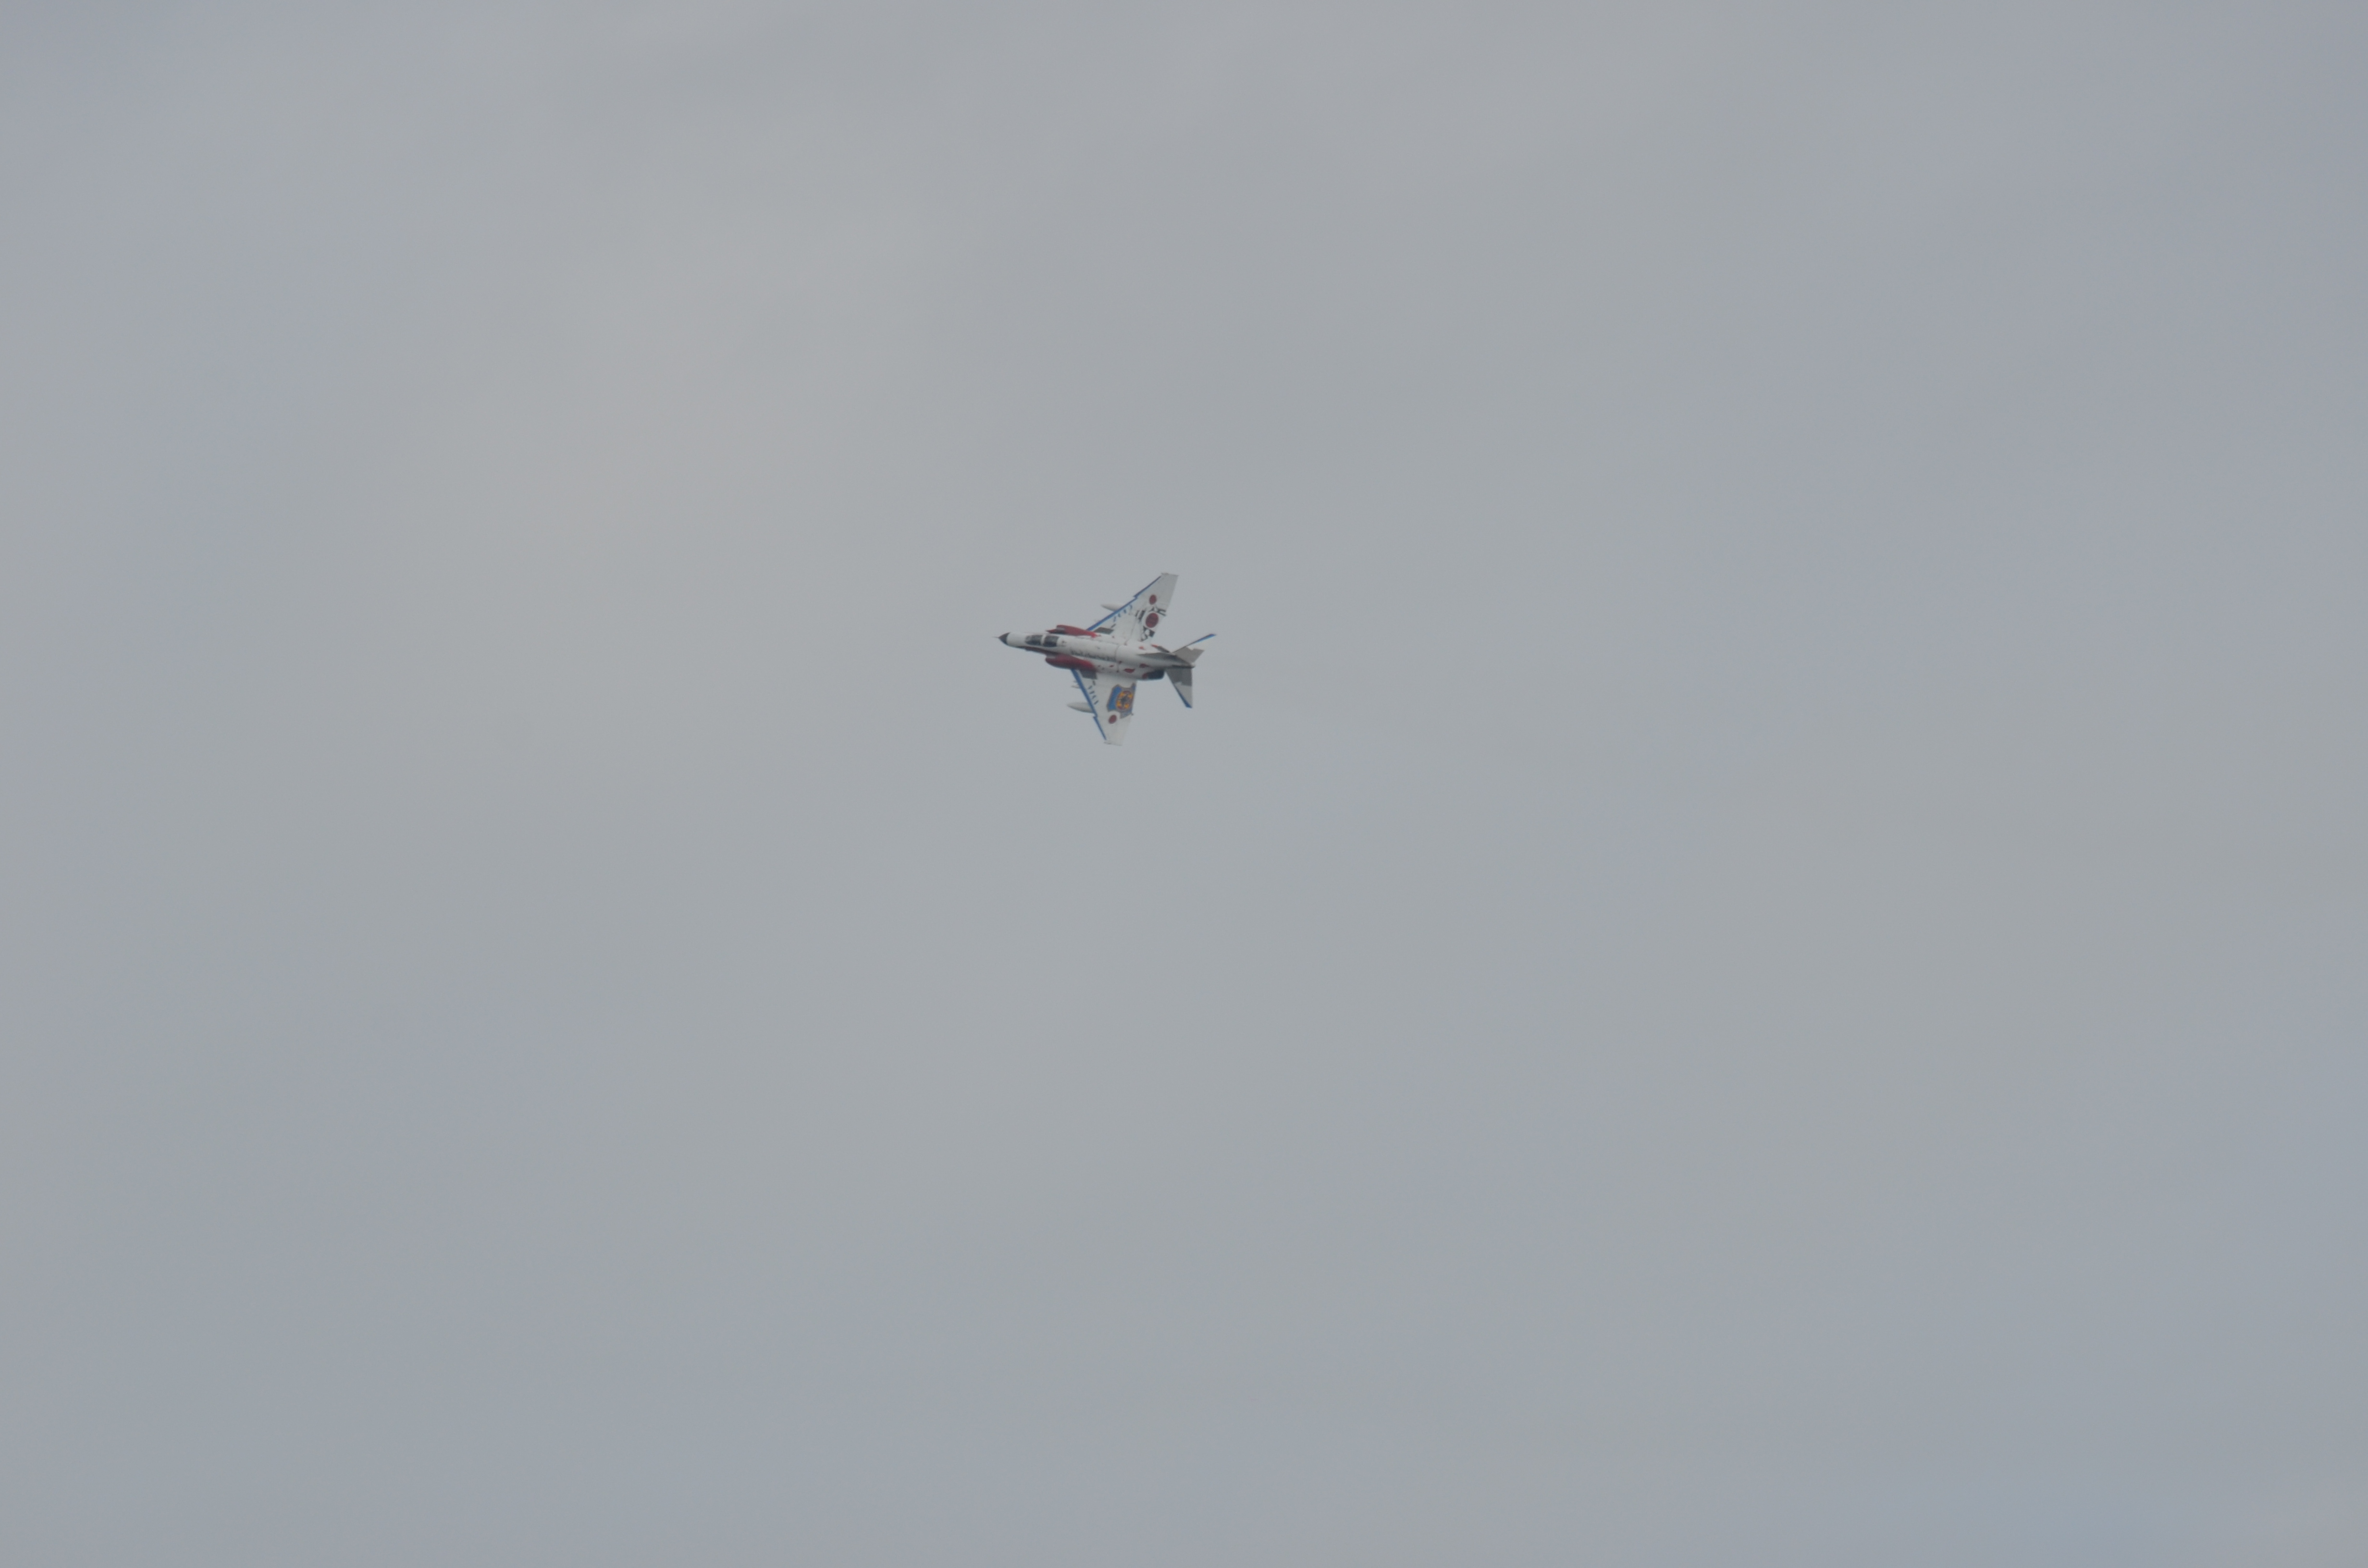F4: (991, 570, 1218, 747)
